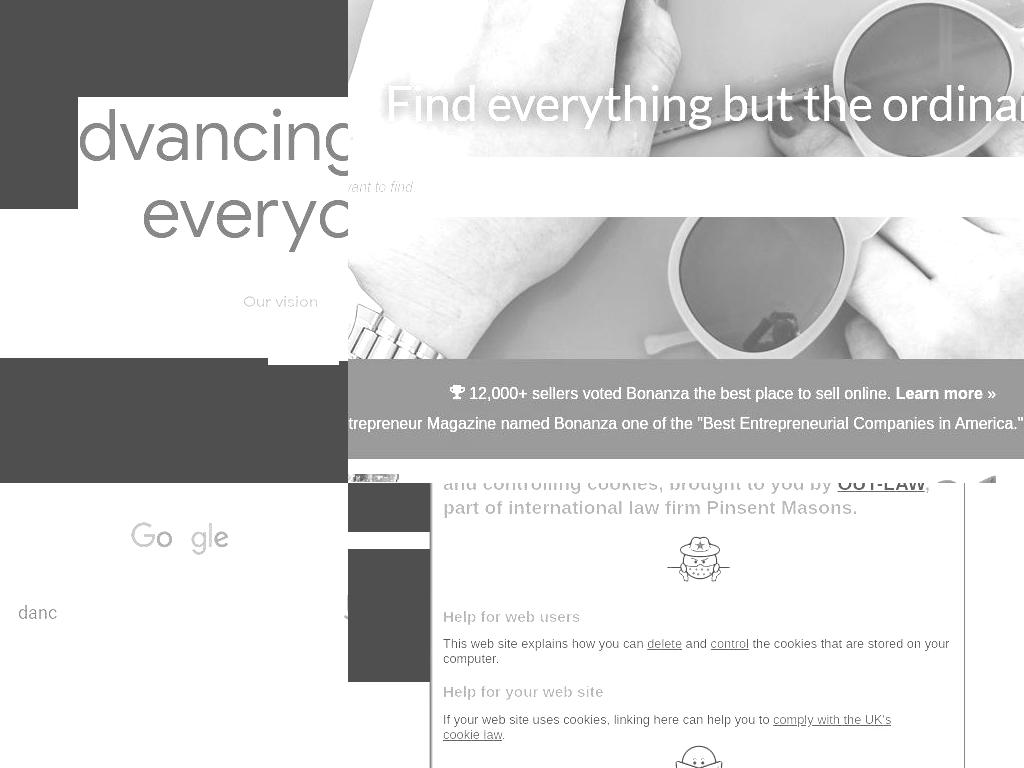button: (348, 498, 430, 516), (348, 515, 430, 533), (348, 532, 430, 550), (348, 549, 430, 567), (348, 566, 430, 584), (348, 583, 430, 601), (348, 600, 430, 618), (348, 617, 430, 635), (348, 634, 430, 652), (348, 483, 430, 499), (348, 651, 430, 667), (348, 666, 430, 682)
field: (348, 159, 1024, 216)
heading: (348, 79, 1024, 128), (443, 483, 930, 518), (348, 415, 1024, 433), (443, 608, 953, 624), (443, 684, 953, 700), (469, 385, 897, 403), (443, 483, 901, 494), (895, 385, 983, 403), (837, 483, 926, 494), (982, 385, 996, 403)
image: (0, 365, 348, 483), (0, 0, 348, 97), (0, 358, 268, 483), (0, 75, 78, 209), (665, 524, 731, 588), (130, 522, 229, 555), (665, 741, 731, 768)
link: (710, 636, 749, 652), (647, 636, 683, 652), (864, 711, 891, 729)
text: (443, 636, 949, 667), (443, 711, 773, 727), (443, 636, 647, 652), (773, 711, 866, 727), (443, 726, 502, 742), (17, 602, 48, 623), (682, 636, 712, 652), (502, 726, 507, 742)
